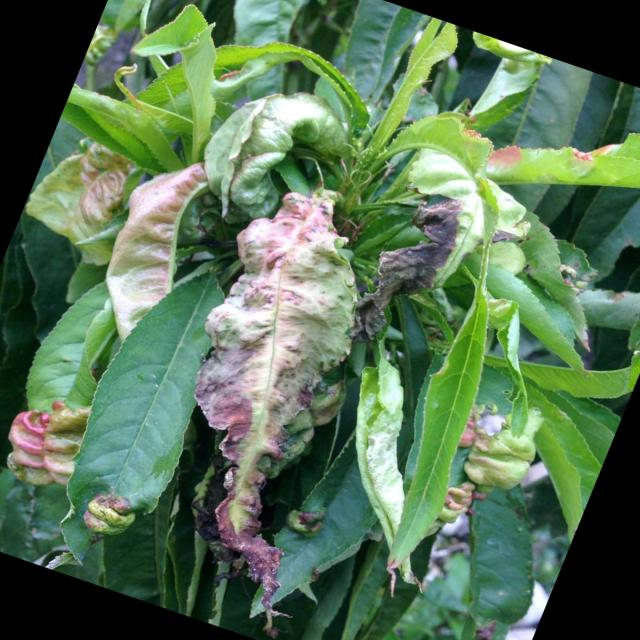peach_leaf_curl: (151, 103, 418, 584)
